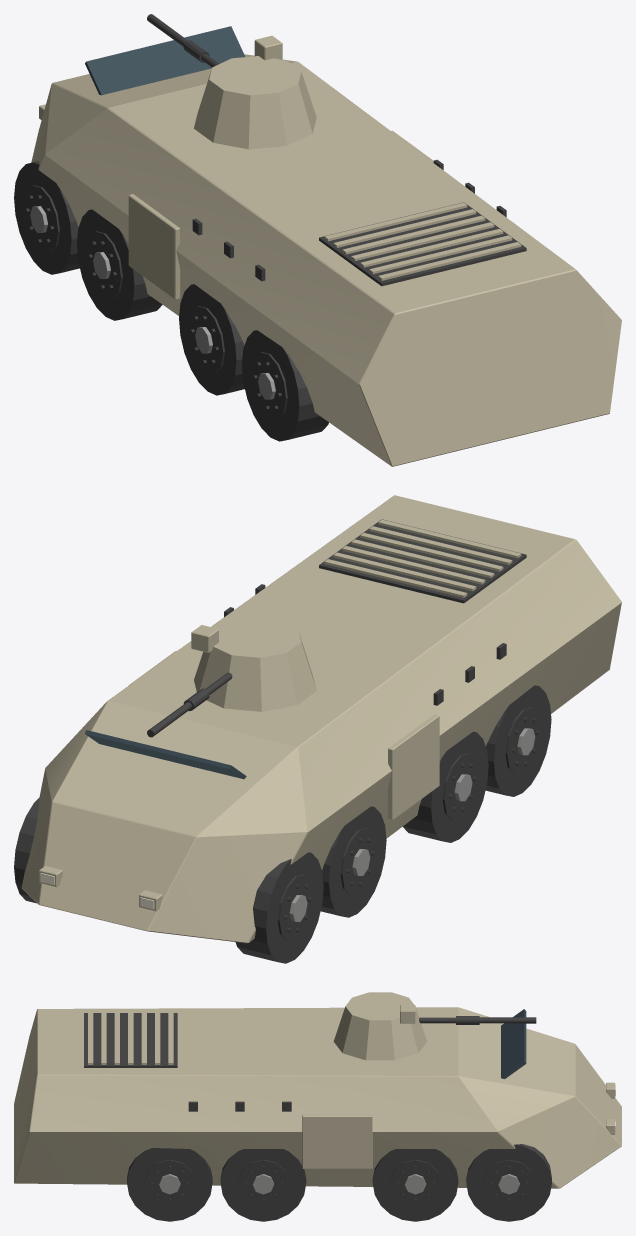
File: rus_apc_btr80.glb
The picture shows the model from 3 angles, top to bottom: view 1: azimuth 30°, elevation 25°; view 2: azimuth 150°, elevation 25°; view 3: azimuth 270°, elevation 25°; orthographic projection. The views are drawn at different scales.
Visible parts, largest first — view 1: body, turret, wheel_6, wheel_2, wheel_0, wheel_4, barrel; view 2: body, turret, wheel_0, wheel_4, wheel_6, wheel_2, wheel_1, barrel; view 3: body, wheel_1, wheel_7, wheel_5, wheel_3, turret, barrel.
Part boxes in pixels (x1,y1,x2,y2): body: (31,26,621,466); turret: (194,35,316,149); wheel_6: (241,330,328,441); wheel_2: (77,209,162,320); wheel_0: (14,161,79,274); wheel_4: (179,284,244,395); barrel: (147,14,219,67); body: (21,495,621,943); turret: (191,618,316,711); wheel_0: (235,852,323,963); wheel_4: (402,731,488,842); wheel_6: (485,685,551,796); wheel_2: (320,806,386,917); wheel_1: (14,797,39,903); barrel: (147,672,232,737); body: (14,1007,621,1188); wheel_1: (466,1144,551,1221); wheel_7: (127,1148,212,1221); wheel_5: (220,1149,306,1221); wheel_3: (372,1149,458,1221); turret: (333,992,426,1060); barrel: (419,1016,536,1024).
Size of the model in its own units: 2.92 by 2.54 by 7.79.
